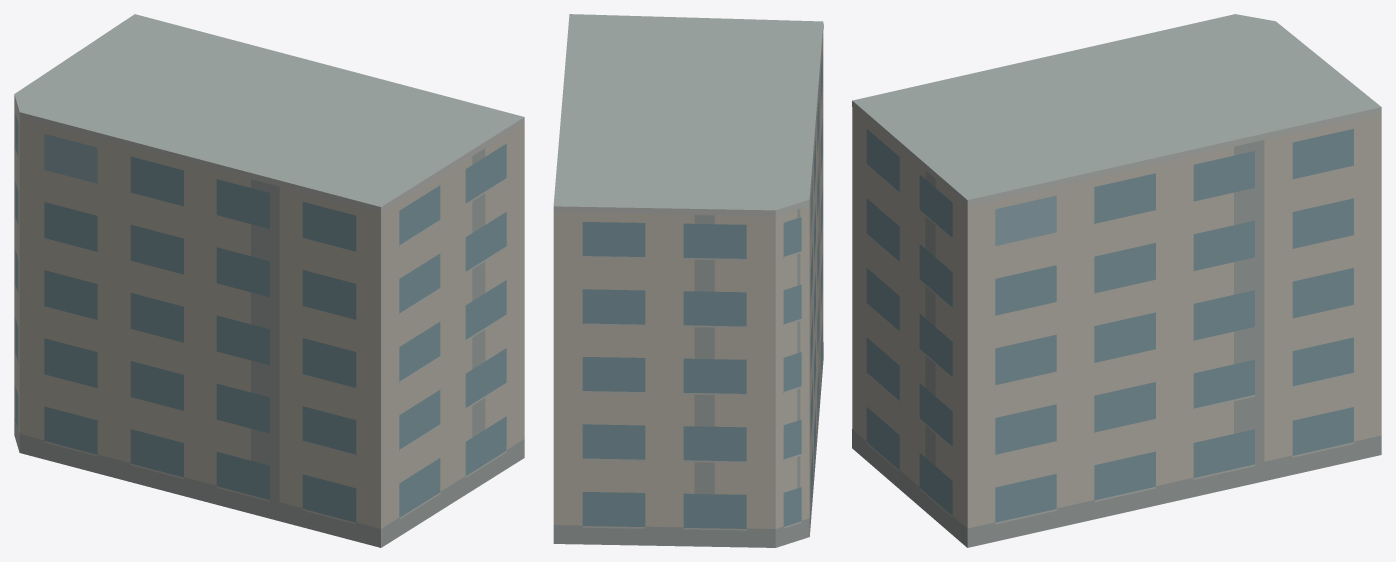
Rendered from survey-upis-32856452.glb.
The picture shows the model from 3 angles, left to right: view 1: azimuth 30°, elevation 25°; view 2: azimuth 150°, elevation 25°; view 3: azimuth 270°, elevation 25°; orthographic projection. The views are drawn at different scales.
Parts seen in each view (by area): view 1: survey-upis-32856452.tmp; view 2: survey-upis-32856452.tmp; view 3: survey-upis-32856452.tmp.
Boxes of the visible parts, x1=… form: survey-upis-32856452.tmp: x1=14, y1=14, x2=524, y2=547; survey-upis-32856452.tmp: x1=553, y1=14, x2=823, y2=547; survey-upis-32856452.tmp: x1=852, y1=14, x2=1381, y2=547.
Bounding box in the file's own units: 15.33 × 13.35 × 18.43.
